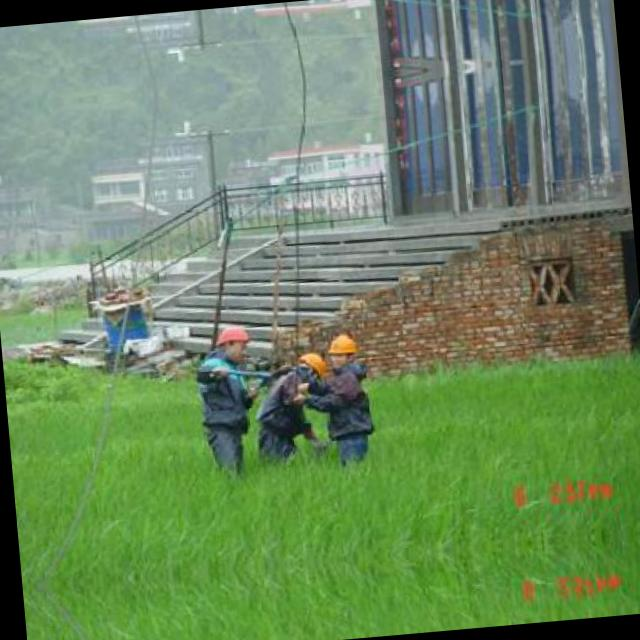helmet: (210, 319, 258, 367), (323, 328, 362, 372), (290, 350, 327, 387)
